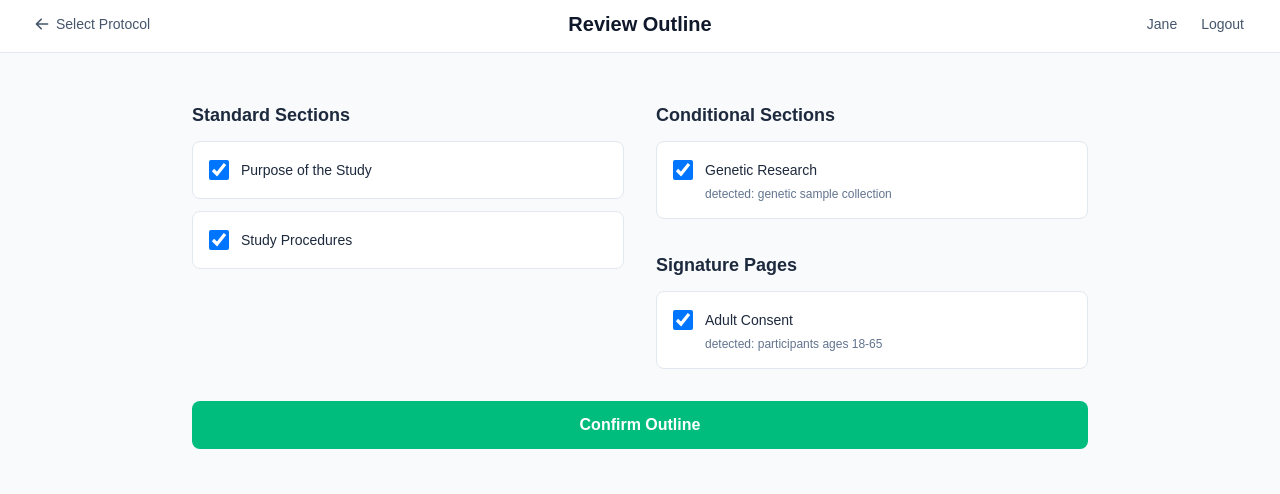
Test: Outline Page › disables Confirm button when all sections are unchecked
Expected: the text "Purpose of the Study" is shown, [241,162,372,178]
Click the checkbox labelled "Purpose of the Study" at {"x": 219, "y": 170}, box [209,160,229,180]
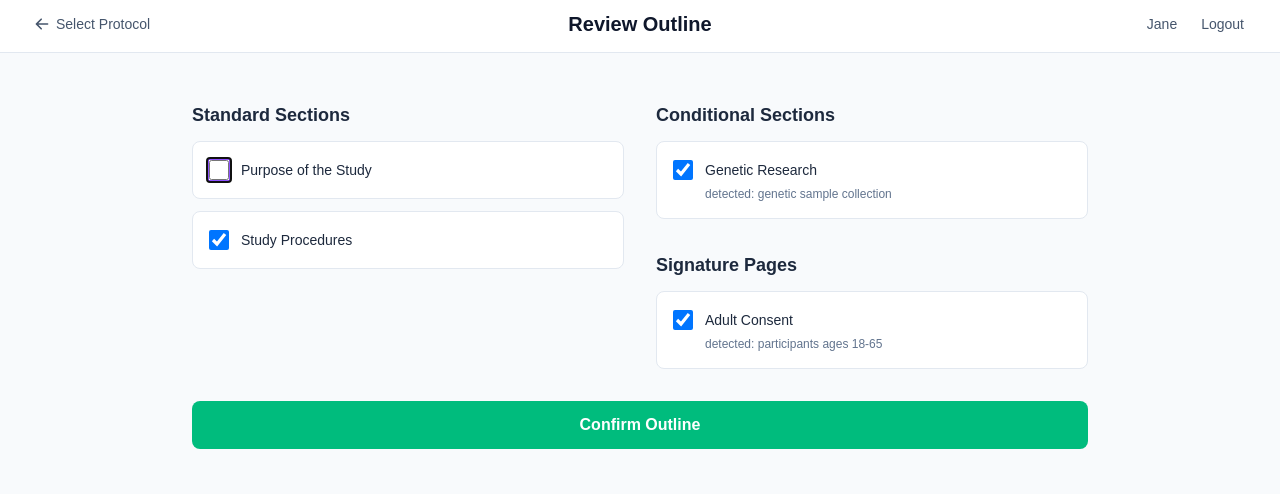
Click the checkbox labelled "Study Procedures" at {"x": 219, "y": 240}, box [209,230,229,250]
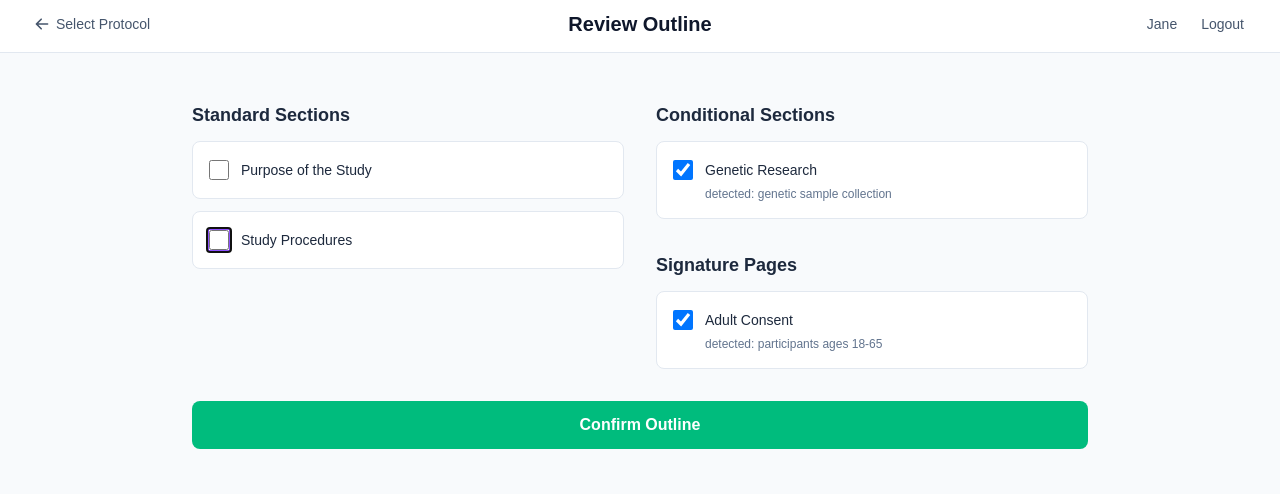
Click the checkbox labelled "Genetic Research detected: genetic sample collection" at {"x": 683, "y": 170}, box [673,160,693,180]
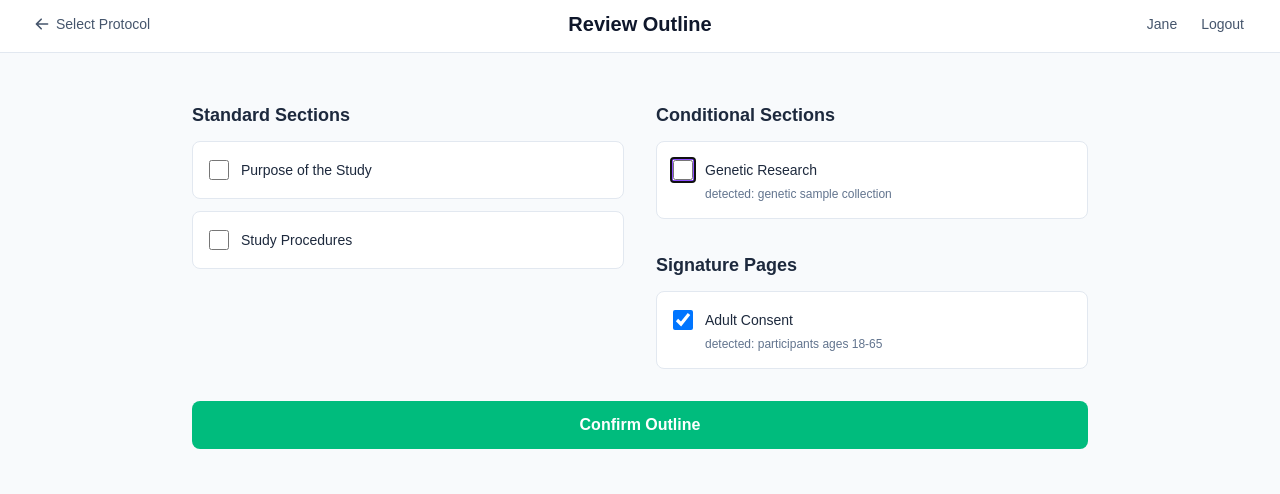
Click the checkbox labelled "Adult Consent detected: participants ages 18-65" at {"x": 683, "y": 320}, box [673,310,693,330]
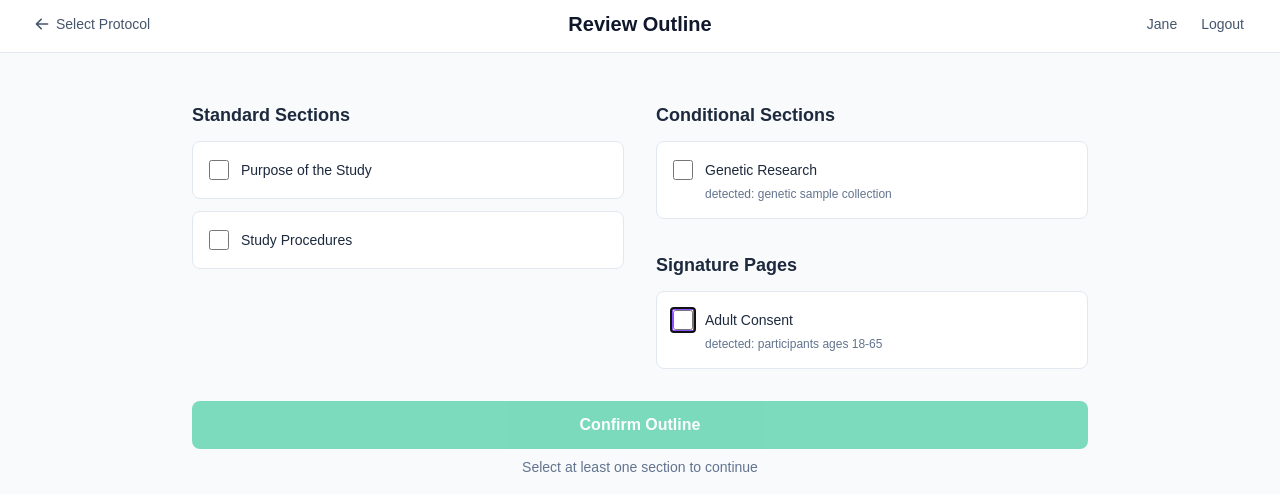
Expected: the button with aria-label "Confirm outline and begin generation" is disabled, [192,401,1088,449]
Expected: the text "Select at least one section to continue" is shown, [522,457,758,477]
